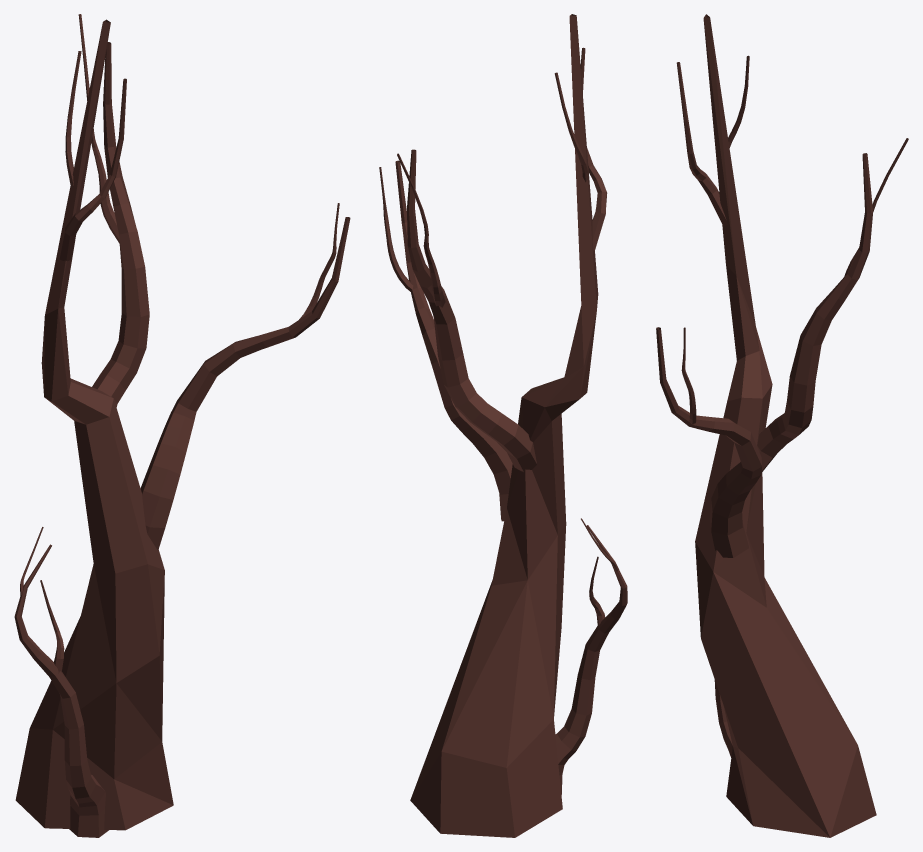
Rendered from small-tree_2.fbx.
3 views of the same model, side by side, from view 1: azimuth 30°, elevation 25°; view 2: azimuth 150°, elevation 25°; view 3: azimuth 270°, elevation 25° (orthographic). The views are drawn at different scales.
Visible parts, largest first — view 1: tree 1.027; view 2: tree 1.027; view 3: tree 1.027.
Boxes of the visible parts, x1,y1,x2,y2 form: tree 1.027: (14, 14, 350, 837); tree 1.027: (379, 14, 627, 837); tree 1.027: (656, 14, 908, 837).
Bounding box in the file's own units: 2.76 × 7.43 × 2.19.
